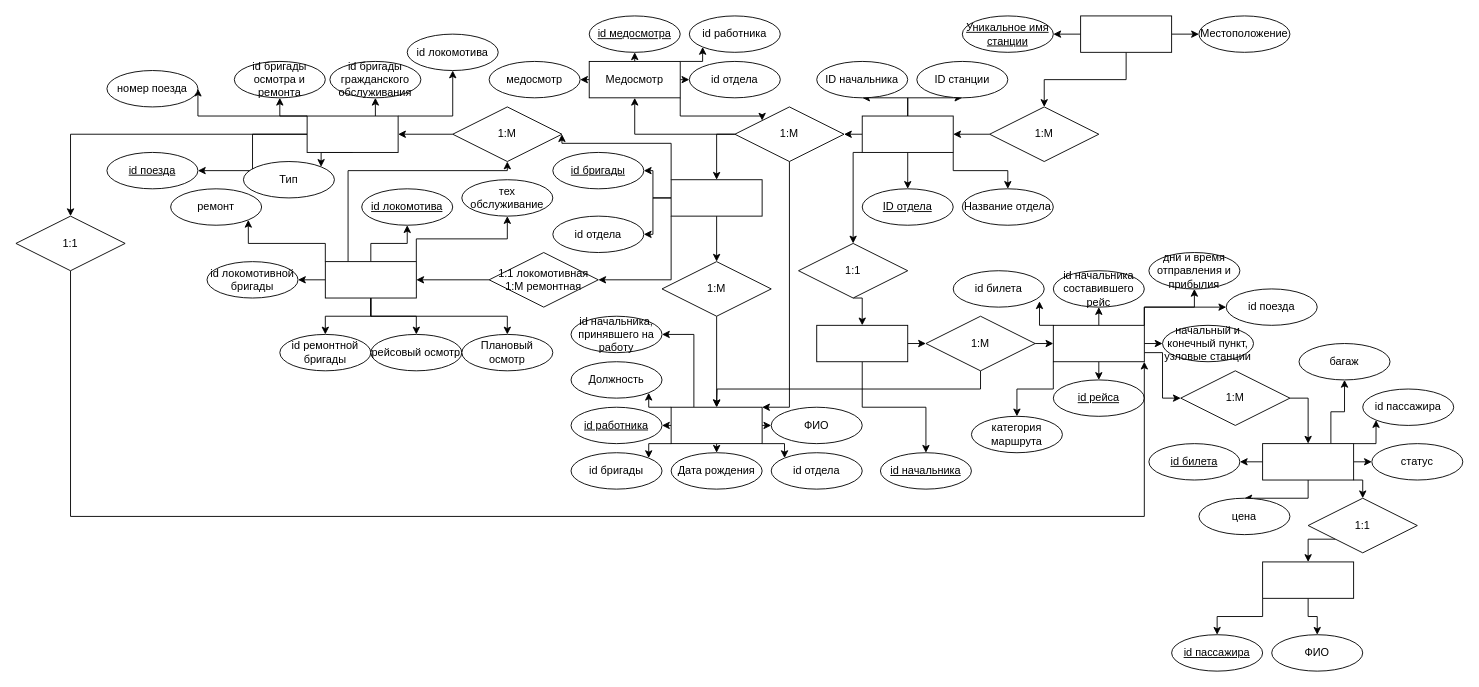
Some shapes in this 1479 by 687 pixel diagram are drawn without their labels. Here are the shapes that lost their labels. From the top down, the centre of each, then its label:
At point (1126, 33): "Станции".
At point (352, 133): "Поезда".
At point (907, 133): "Отделы".
At point (716, 197): "Бригады".
At point (370, 279): "Локомотивы".
At point (862, 343): "Администрация".
At point (1098, 343): "Расписание".
At point (716, 425): "Работники".
At point (1308, 461): "Билеты".
At point (1308, 579): "Пассиажиры".
